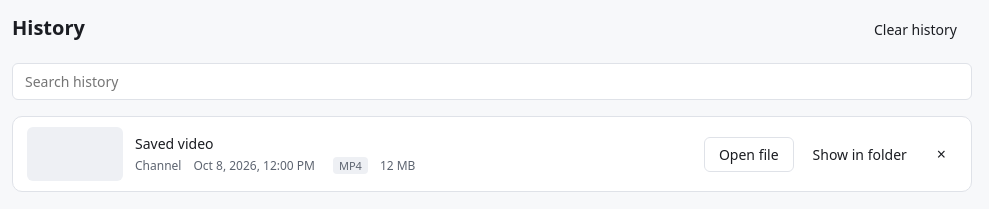
Test: HistoryPage › says when nothing matches
Check: the text "Saved video" is shown, box [135,134,214,153]
Type "zzz" into the search field at (492, 82), box [12,63,972,100]
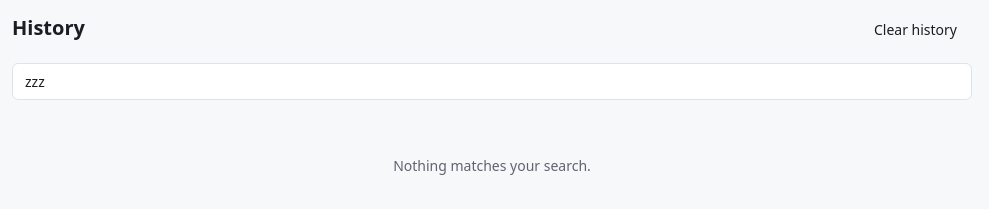
Check: the text "Nothing matches your search." is shown, box [393,156,591,175]
